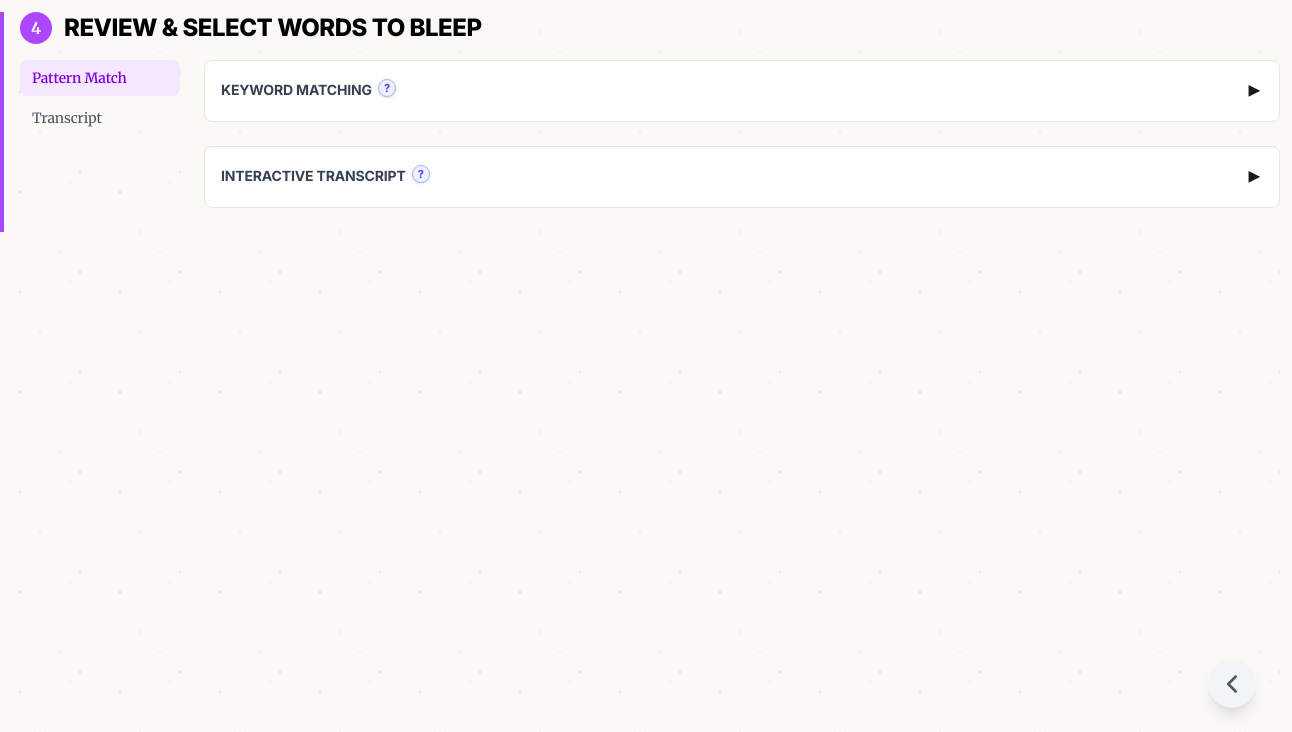
Test: ReviewMatchTab › Words to match input › renders words to match input
This screenshot has width=1292, height=732.
Click the button "Keyword Matching ? ▼": point(296, 89) [205, 61, 1279, 121]
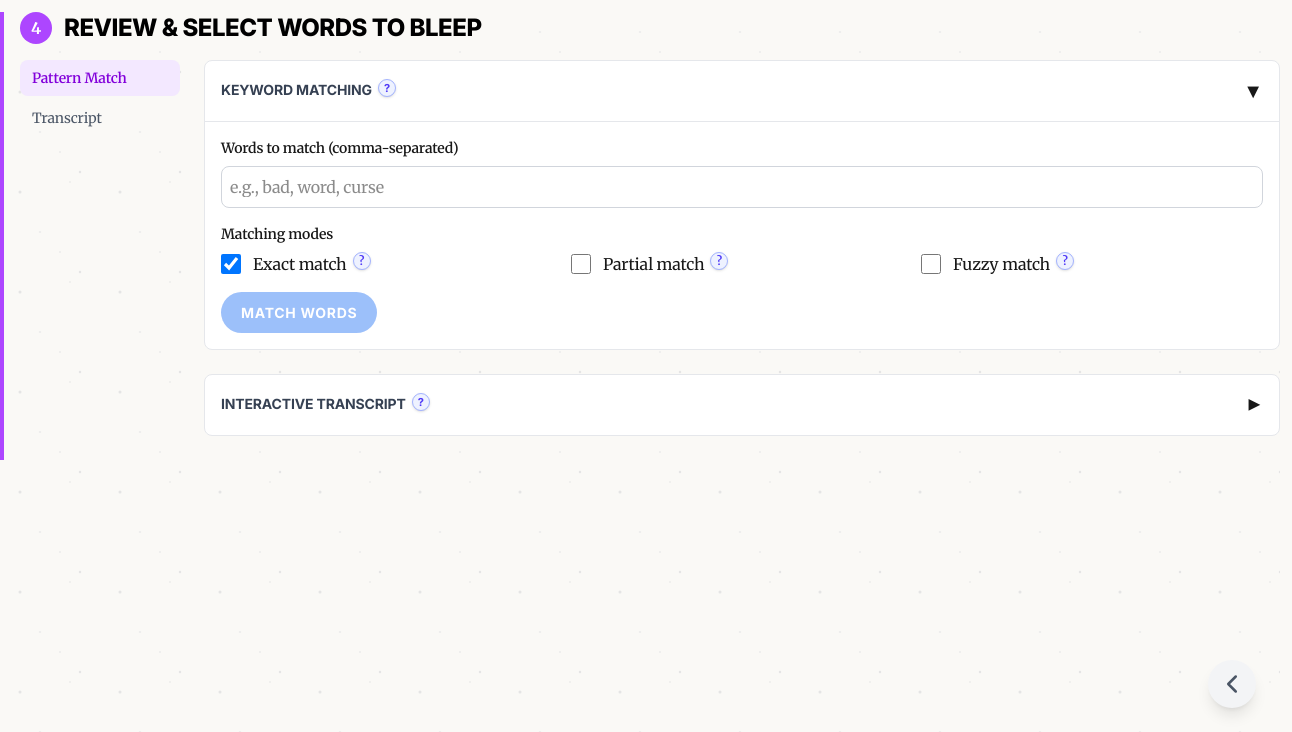
Result: the field with test id "words-to-match-input" is shown at [221, 166, 1263, 208]
